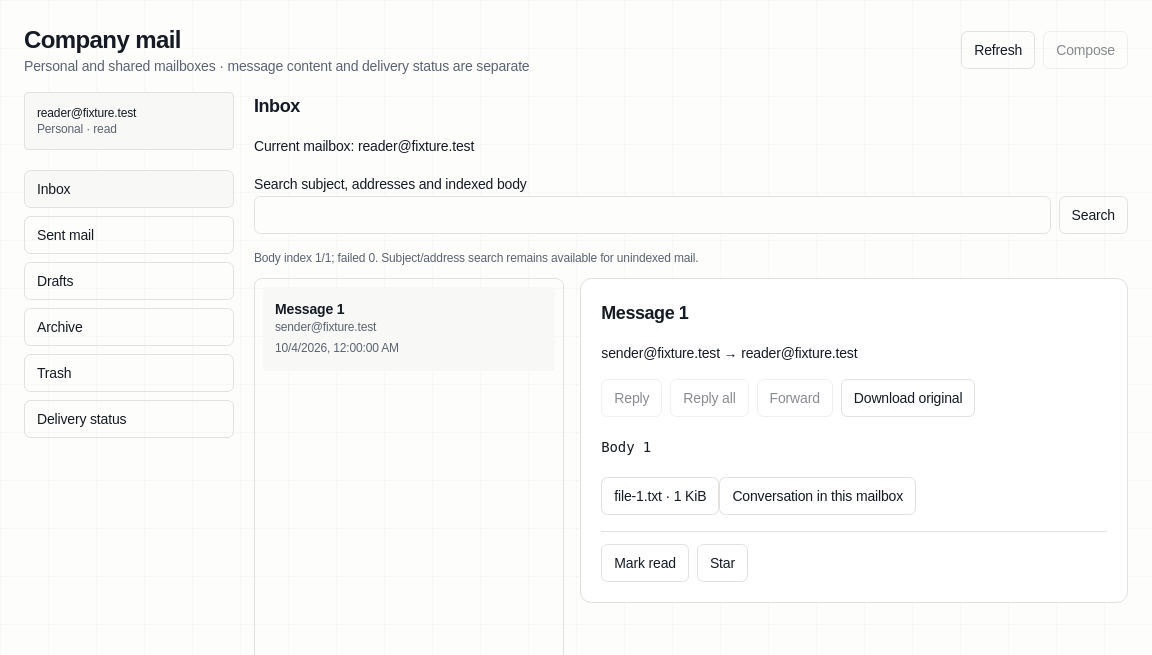
it: mail workspace visible-read invalidation › manual refresh revalidates the open message, attachments and conversation
The width and height of the screenshot is (1152, 655).
Expected: the text "Body 1" is shown, [601,439,651,455]
Click the button "Conversation in this mailbox". click: (818,496)
box: [719,477,916,515]
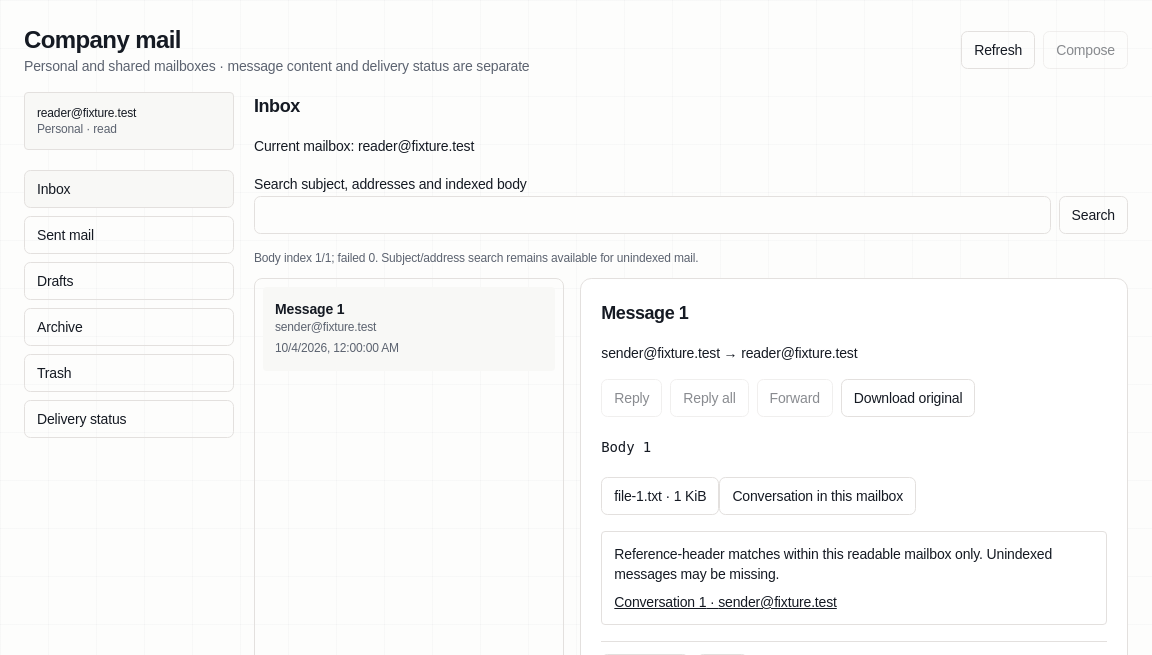
Expected: the button "file-1.txt · 1 KiB" is shown, [601,477,719,515]
Expected: the link "Conversation 1 · sender@fixture.test" is shown, [614,594,837,610]
Click the button "Refresh". click: (998,50)
box: [961,31,1035,69]
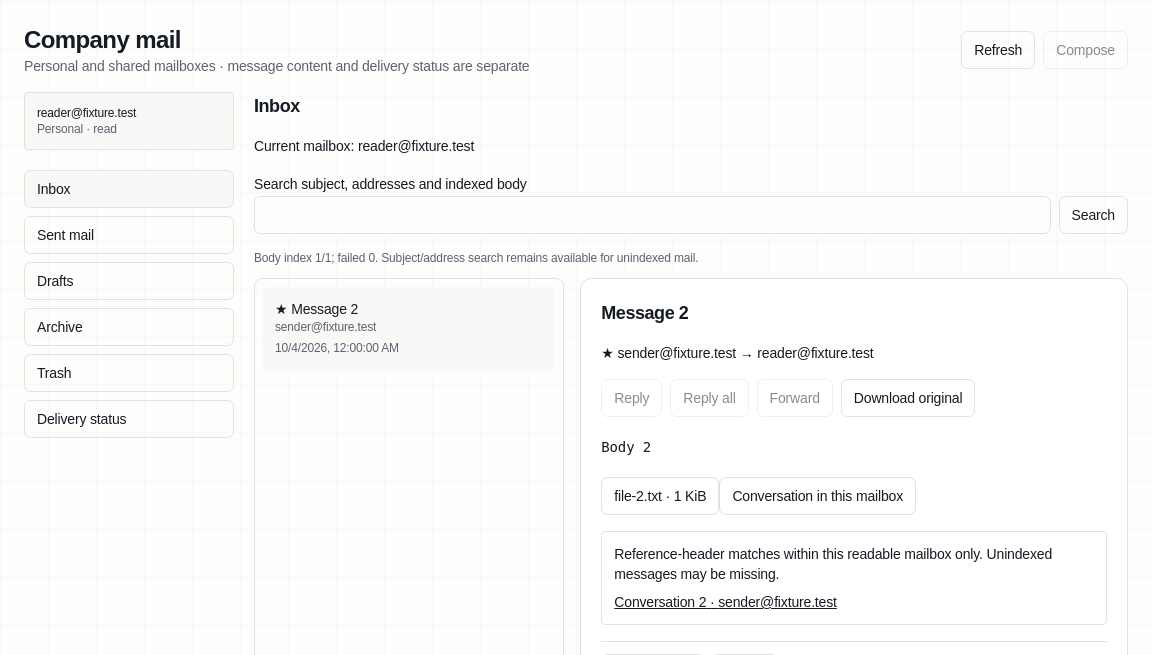
Expected: the text "Body 2" is shown, [601,439,651,455]
Expected: the button "file-2.txt · 1 KiB" is shown, [601,477,719,515]
Expected: the link "Conversation 2 · sender@fixture.test" is shown, [614,594,837,610]
